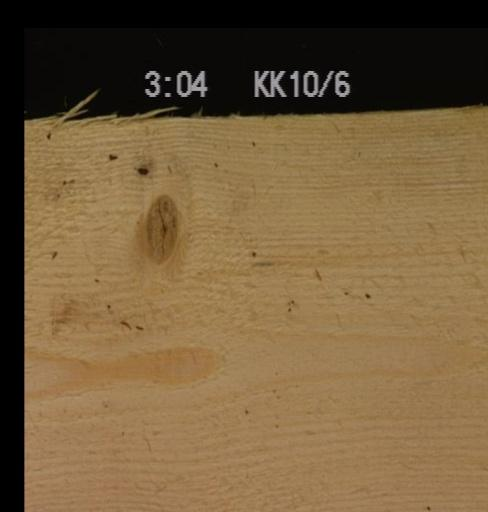sound_knot: (140, 192, 177, 264)
